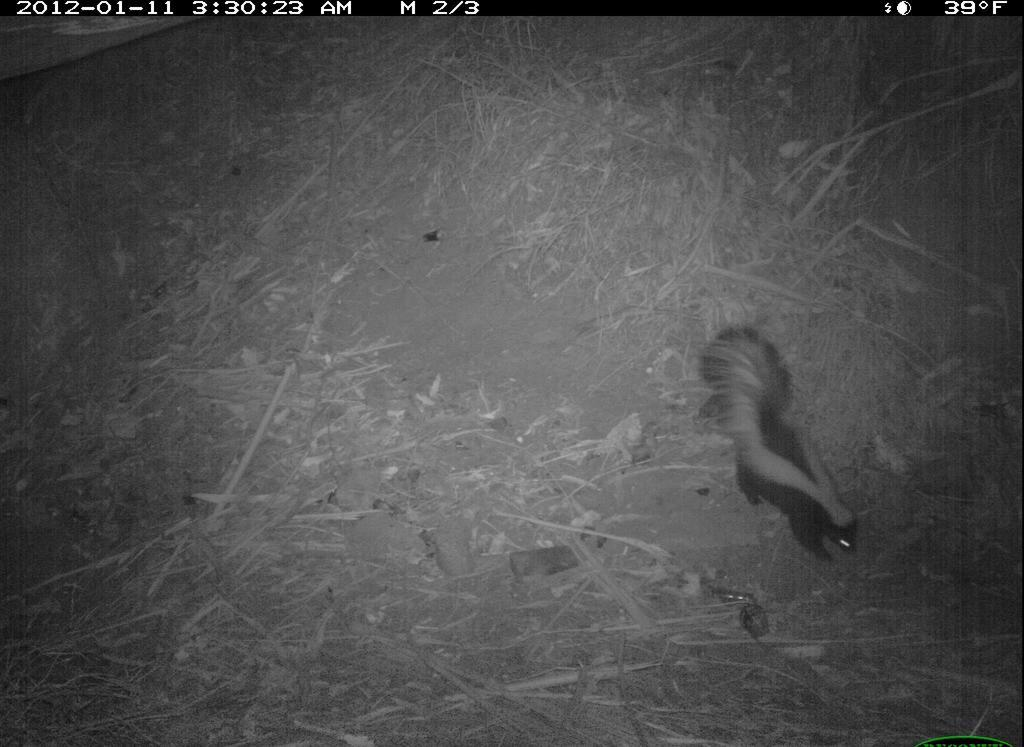skunk: (698, 322, 867, 571)
